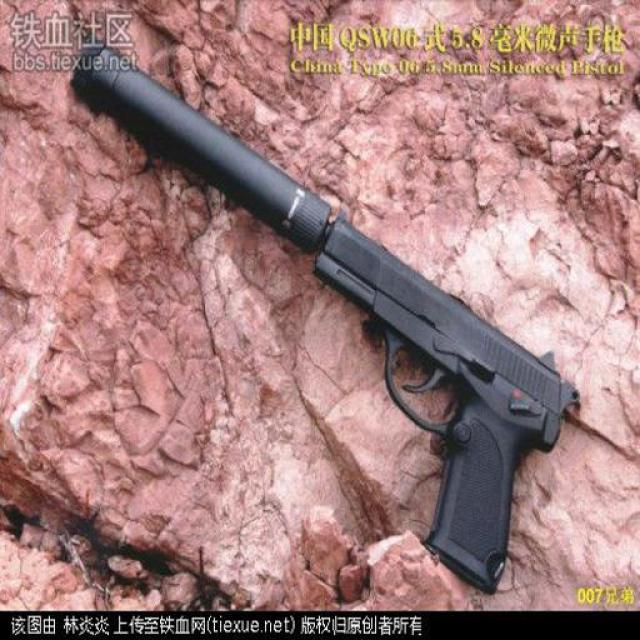pistol: (306, 194, 578, 595)
